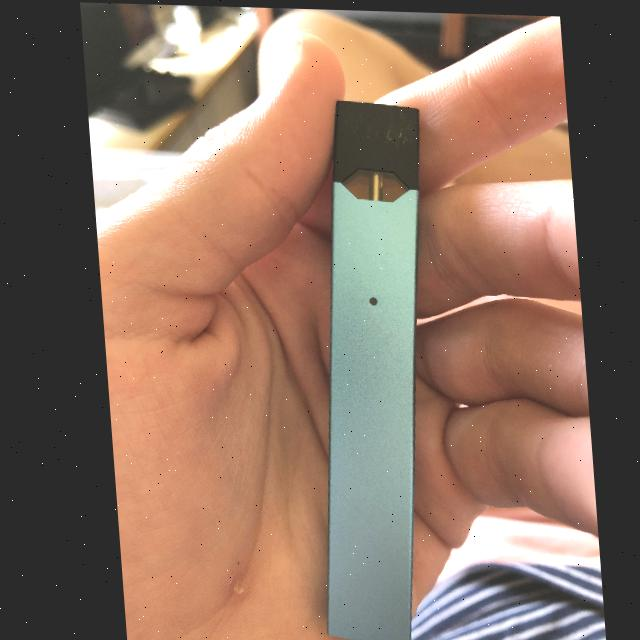vape: (287, 95, 449, 640)
